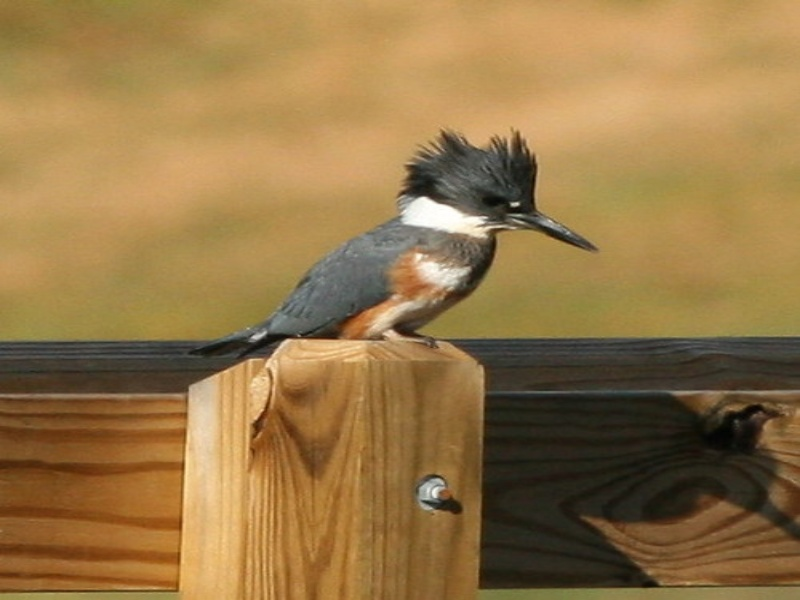kingfisher: (187, 118, 606, 376)
